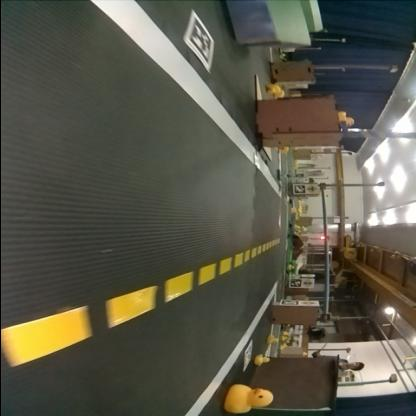Duckie: (229, 386, 271, 414), (338, 112, 352, 127), (254, 356, 271, 366), (266, 84, 280, 93), (268, 336, 278, 345), (276, 90, 284, 98), (278, 148, 288, 152), (288, 266, 294, 271)
Intersection sign: (306, 184, 317, 194)
QR code: (184, 18, 214, 72), (244, 342, 252, 372), (293, 185, 306, 195), (280, 300, 296, 306), (290, 280, 300, 288)
Signal sign: (302, 280, 314, 288), (300, 301, 318, 306)
Traffic light: (322, 235, 330, 239)
